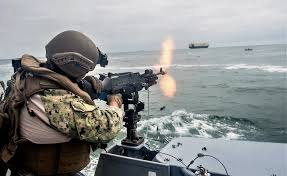gun: (74, 66, 169, 108)
